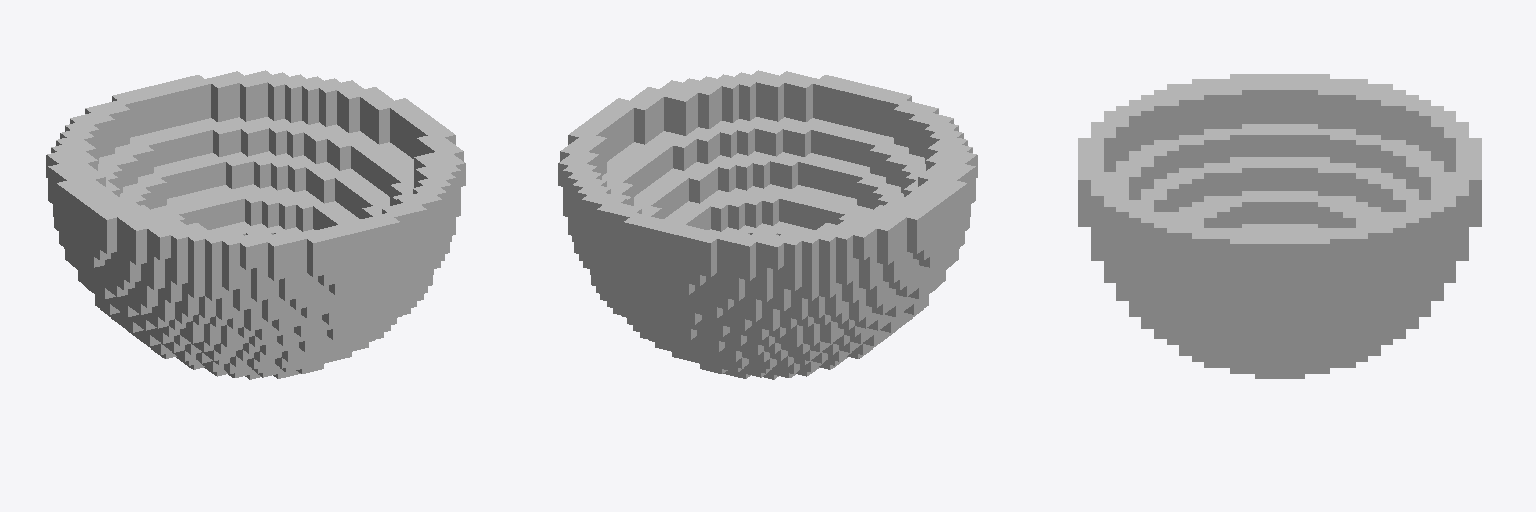
File: bowl.obj
The picture shows the model from 3 angles: view 1: azimuth 30°, elevation 25°; view 2: azimuth 150°, elevation 25°; view 3: azimuth 270°, elevation 25°; orthographic projection.
Parts seen in each view (by area): view 1: object 1; view 2: object 1; view 3: object 1.
Part boxes in pixels (bbox=[...]): object 1: bbox=[46, 70, 465, 379]; object 1: bbox=[558, 70, 977, 379]; object 1: bbox=[1078, 74, 1481, 378].
Bounding box in the file's own units: 3.2 × 1.7 × 3.2.